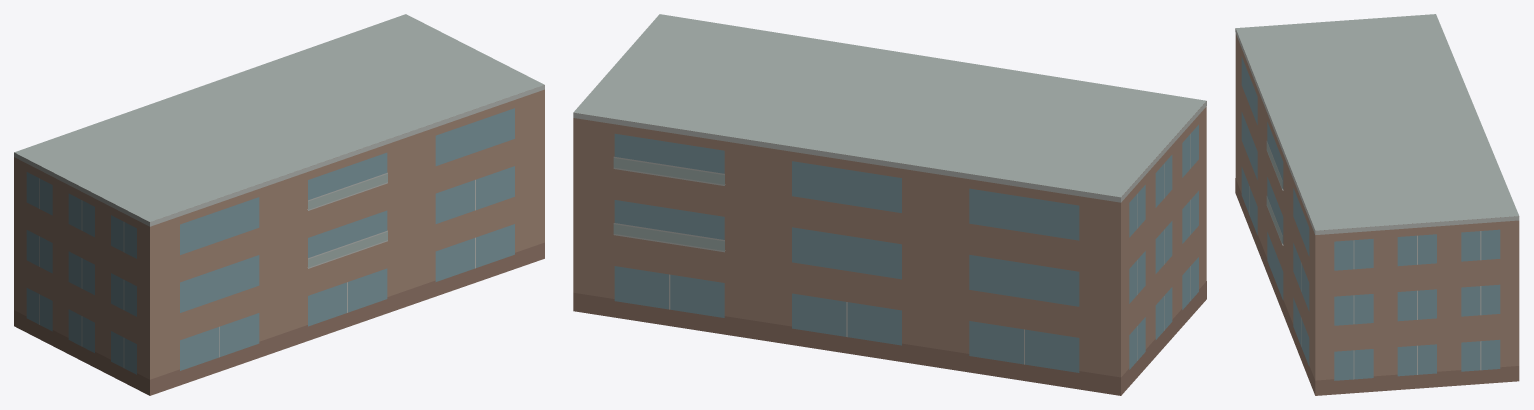
The model's file is survey-upis-32527071.glb.
3 views of the same model, side by side, from view 1: azimuth 30°, elevation 25°; view 2: azimuth 150°, elevation 25°; view 3: azimuth 270°, elevation 25° (orthographic). The views are drawn at different scales.
Visible parts, largest first — view 1: survey-upis-32527071.tmp; view 2: survey-upis-32527071.tmp; view 3: survey-upis-32527071.tmp.
Boxes of the visible parts, left/top/right/bottom form: survey-upis-32527071.tmp: left=14, top=14, right=544, bottom=395; survey-upis-32527071.tmp: left=573, top=14, right=1206, bottom=395; survey-upis-32527071.tmp: left=1235, top=14, right=1519, bottom=395.
Bounding box in the file's own units: 25.76 × 9.15 × 14.26.
